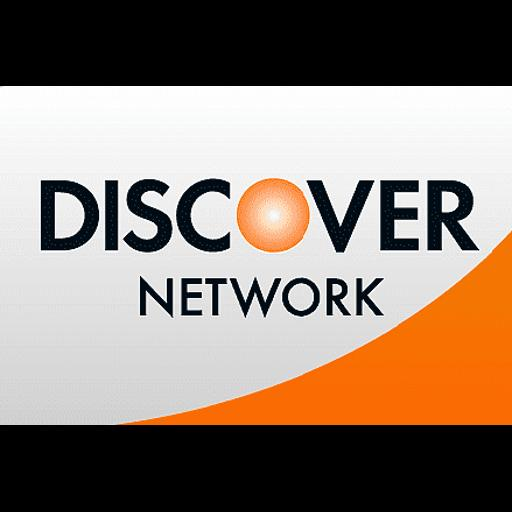Discover: (0, 86, 512, 425)
